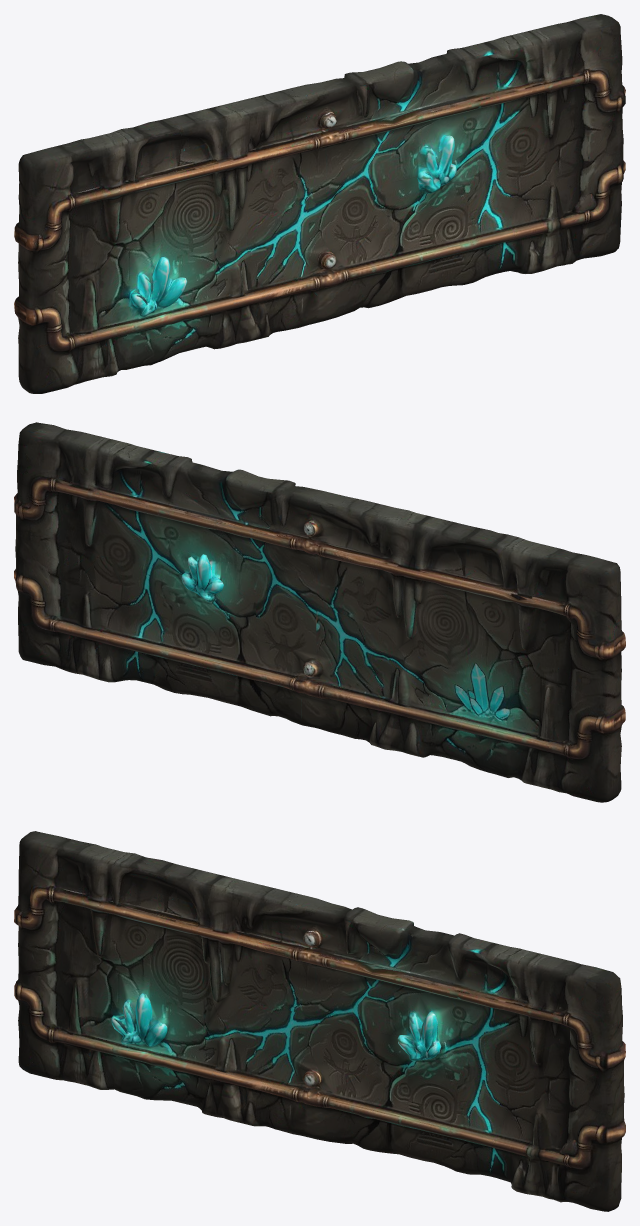
File: wall2.glb
3 renders of one model, top to bottom at view 1: azimuth 30°, elevation 25°; view 2: azimuth 150°, elevation 25°; view 3: azimuth 330°, elevation 25°, orthographic.
Size of the model in its own units: 1.91 by 0.7163 by 0.1606.
Materials: 1 (1 with a texture image).
